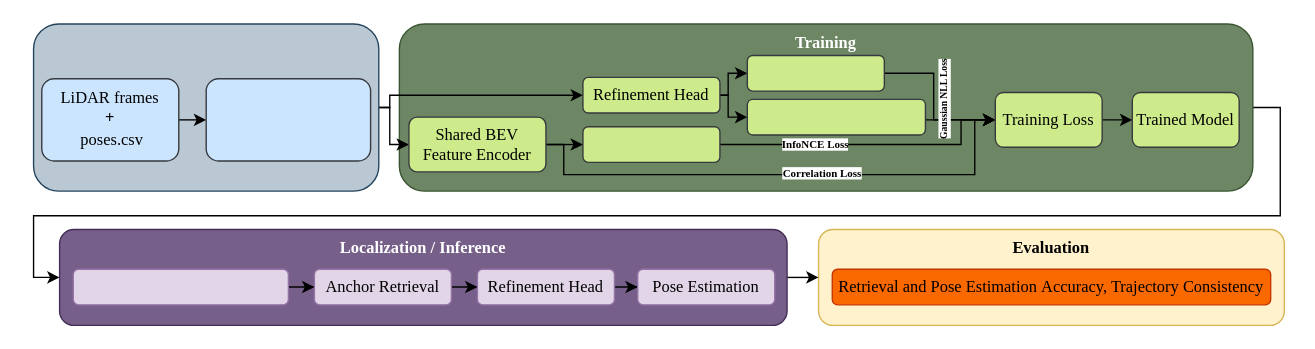
The diagram is 1315 pixels wide and 349 high, and some of its shapes have lost their labels. Here are the shapes that lost their labels. From the top down, the box of each, then its label:
(746, 54, 884, 91): Pose Refinement
(32, 23, 379, 191): Input
(205, 77, 371, 161): BEV images bev_manifest.csv anchors.csv pairs.csv
(746, 98, 925, 135): Uncertainty Estimation
(582, 125, 720, 162): Retrieval Learning
(72, 268, 288, 305): Query BEV + Anchor Database
